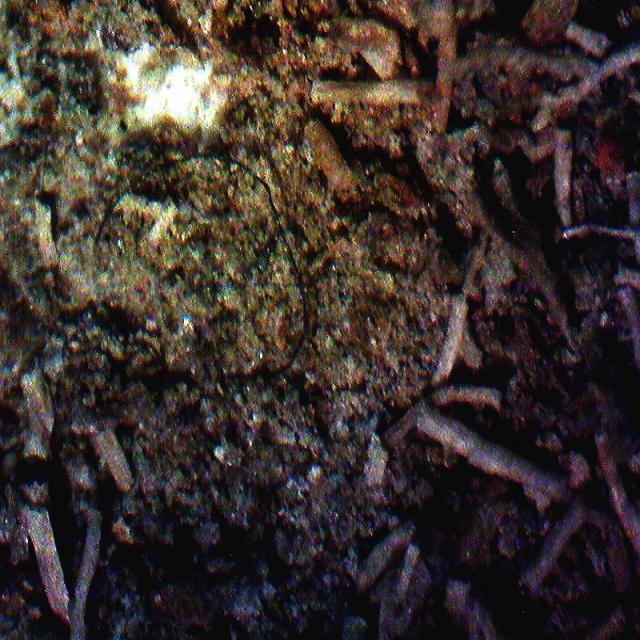microplastic: (94, 152, 311, 379)
